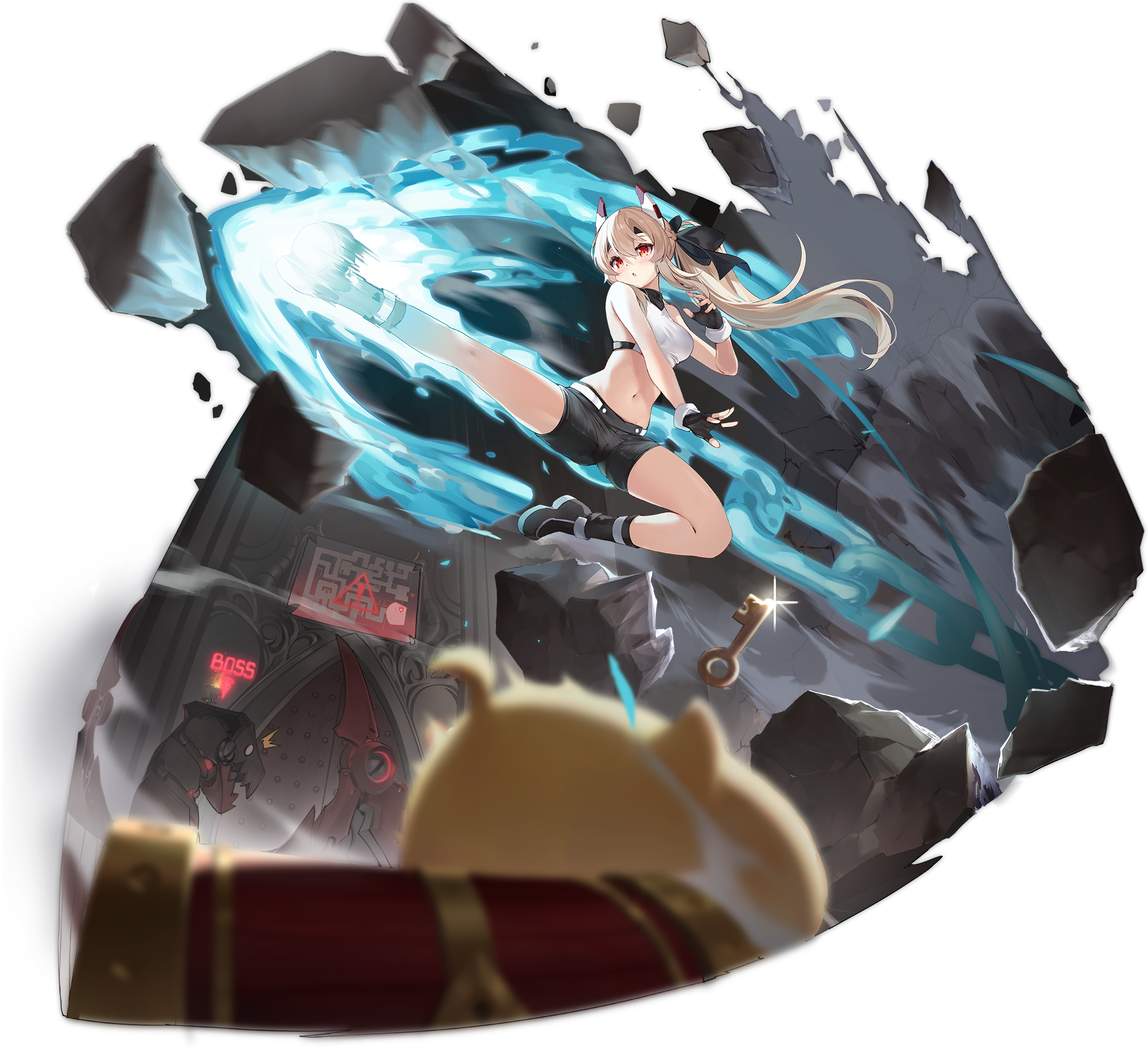person: (469, 166, 907, 761)
